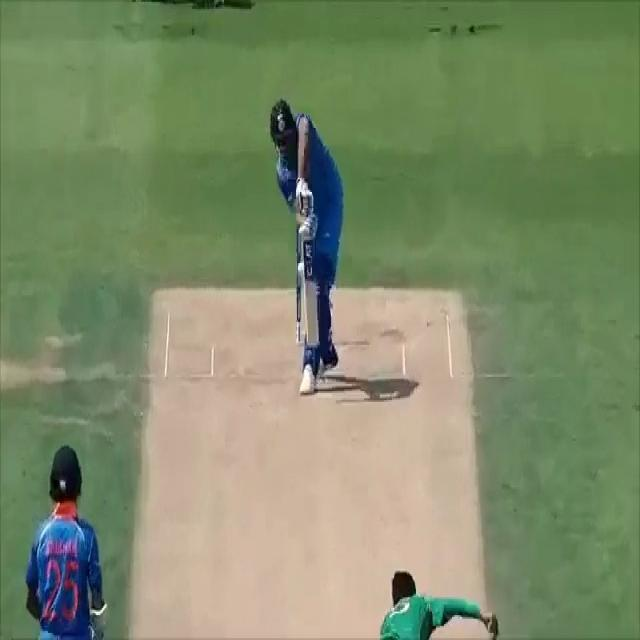ball: (298, 262, 304, 275)
